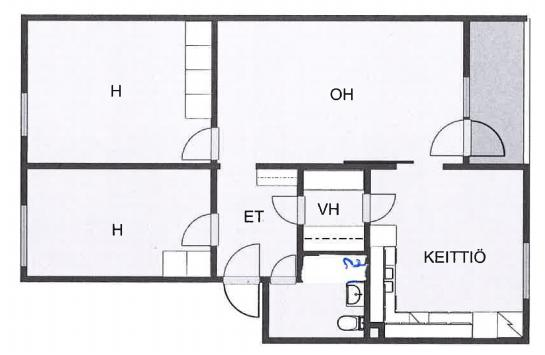bathroom: (268, 253, 365, 339)
door: (463, 118, 507, 160), (428, 118, 472, 159), (221, 241, 263, 283), (223, 276, 263, 319), (179, 126, 222, 162), (179, 212, 219, 247), (270, 193, 308, 227), (360, 191, 397, 225), (269, 256, 298, 284)
perimeter: (21, 14, 529, 344)
window: (18, 202, 29, 270), (521, 239, 532, 303), (18, 89, 31, 143), (462, 73, 472, 121)
